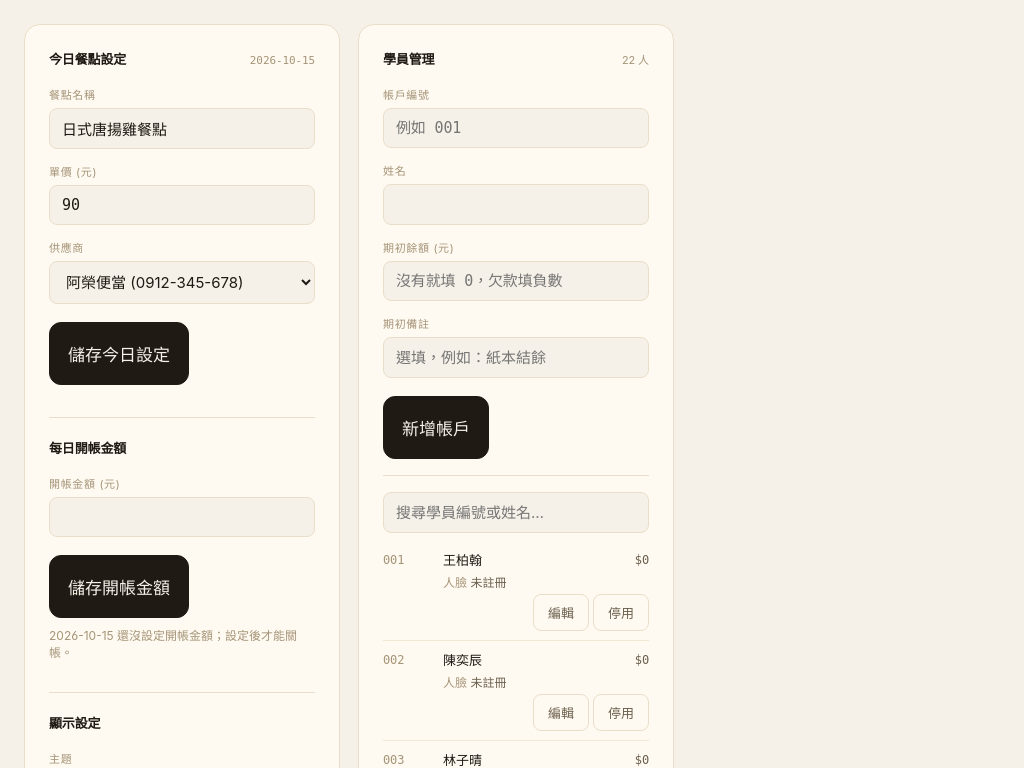
Test: AdminScreen Opening Cash Validation and Confirmation › opens confirmation dialog on valid input and saves on confirm
Type "3500" into the field named "開帳金額" at point(182, 517), box [49,497,315,537]
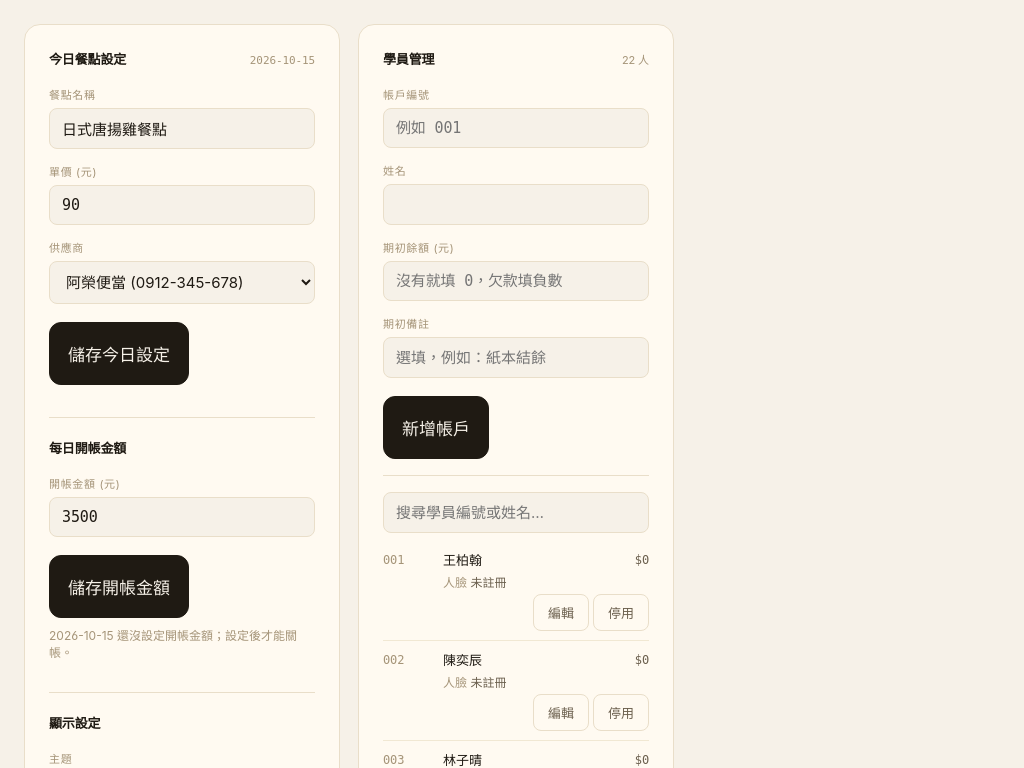
Click the button "儲存開帳金額" at point(119, 586), box [49,555,189,618]
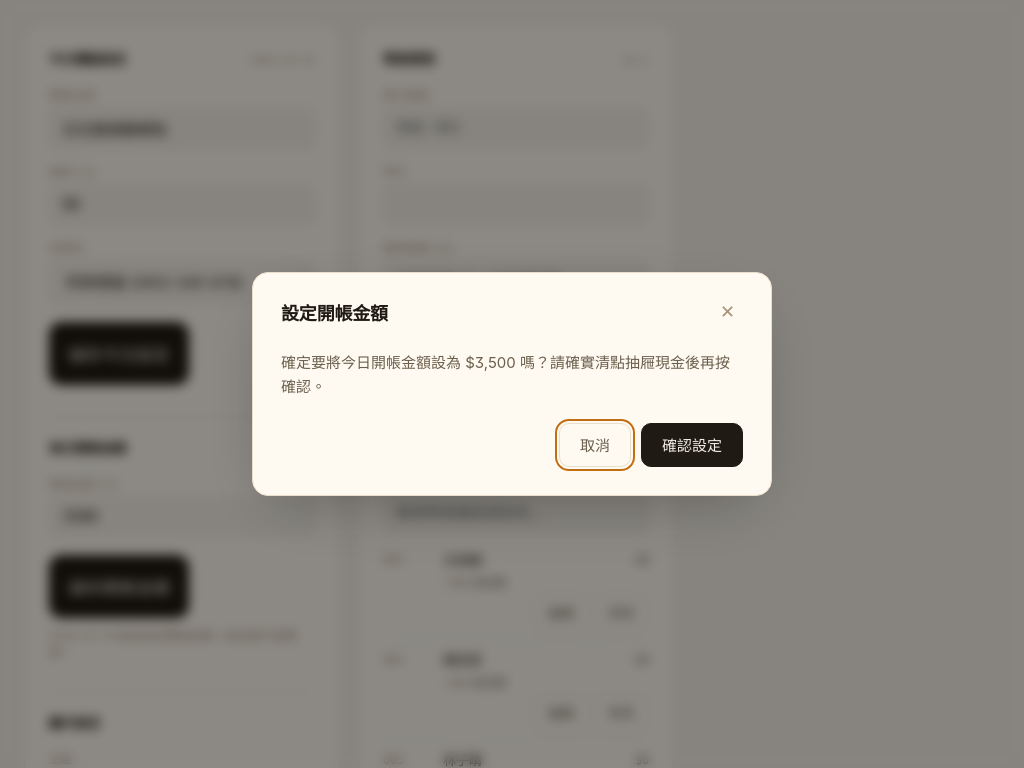
Now the dialog is shown, box [252,272,772,496]
Click the button "確認設定" at point(692, 445), box [641,423,743,467]
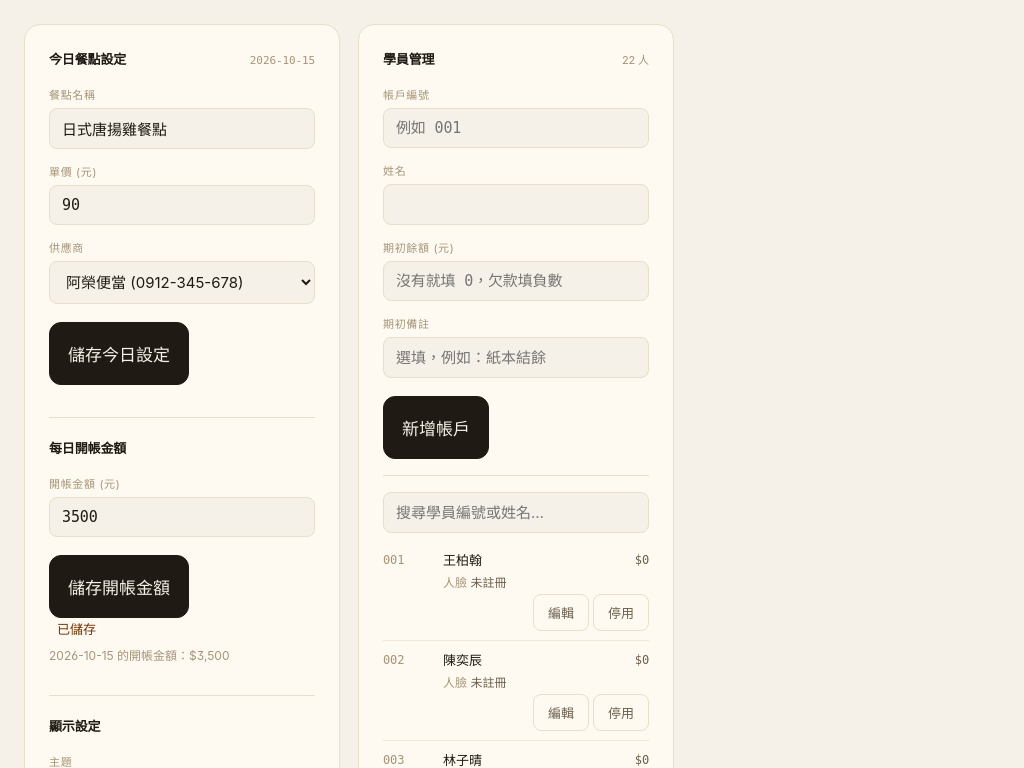
Now the dialog is gone
Now the text "已儲存" is shown, box [57,621,96,637]
